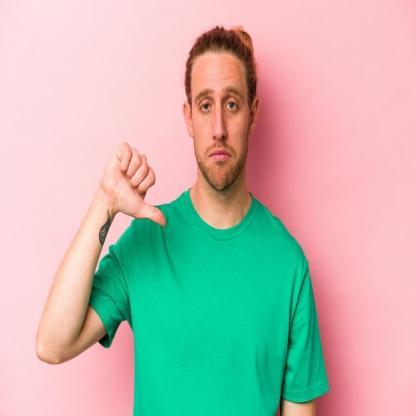thumb_down: (100, 137, 170, 232)
